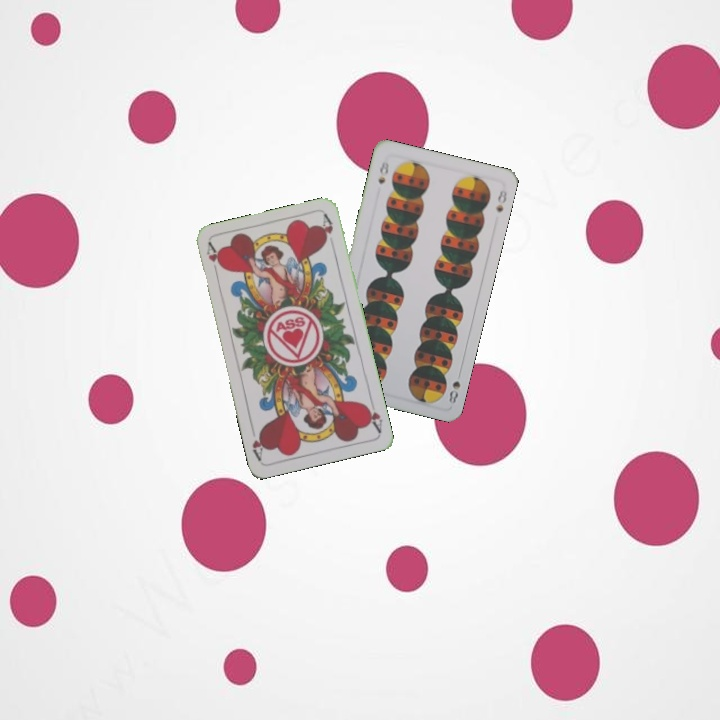HA: (361, 395, 385, 435), (202, 239, 225, 279)
S8: (445, 366, 464, 406), (374, 157, 392, 186)
